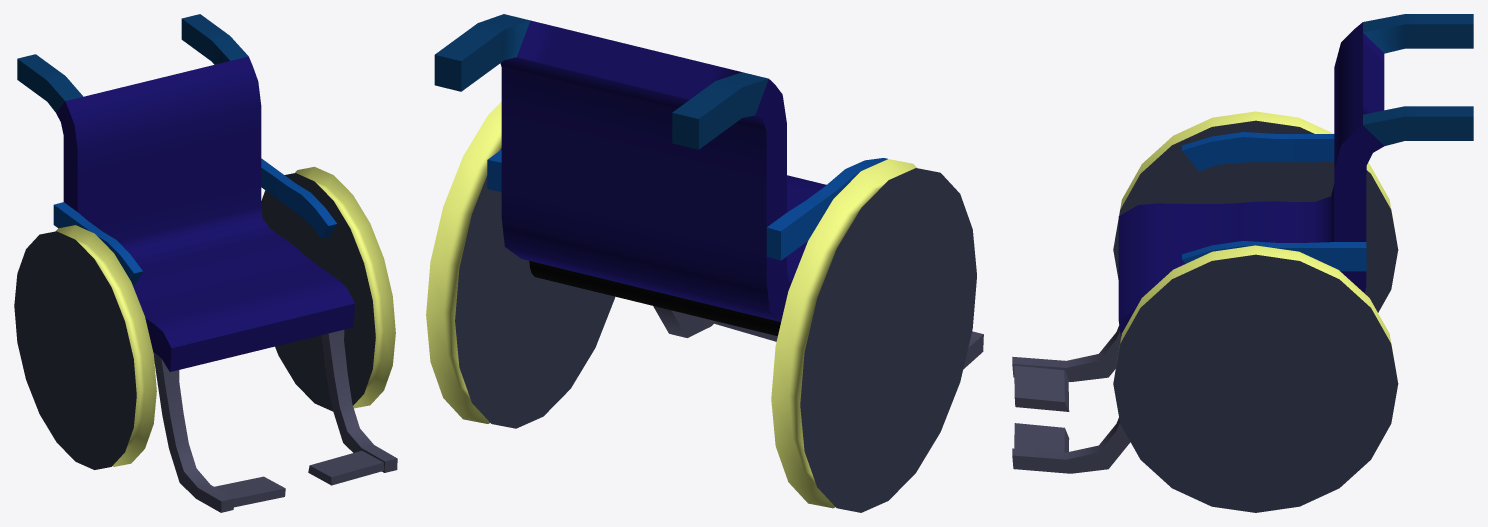
The model's file is wheelchair_2.fbx.
3 views of the same model, side by side, from view 1: azimuth 30°, elevation 25°; view 2: azimuth 150°, elevation 25°; view 3: azimuth 270°, elevation 25° (orthographic). The views are drawn at different scales.
Parts seen in each view (by area): view 1: pCylinder5; view 2: pCylinder5; view 3: pCylinder5.
Part boxes in pixels (<box>): pCylinder5: <box>14,14,397,512</box>; pCylinder5: <box>426,14,983,512</box>; pCylinder5: <box>1012,14,1473,512</box>.
Size of the model in its own units: 6.27 by 7.56 by 8.44.
